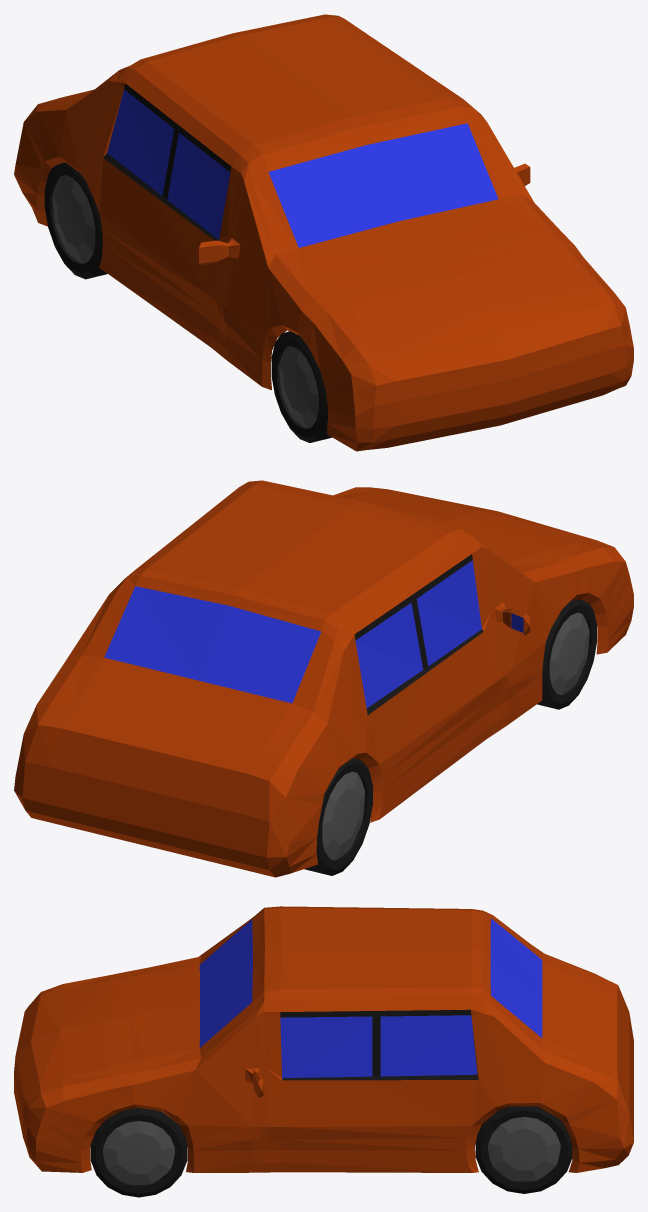
File: Car.FBX
3 renders of one model, top to bottom at view 1: azimuth 30°, elevation 25°; view 2: azimuth 150°, elevation 25°; view 3: azimuth 270°, elevation 25°, orthographic. The views are drawn at different scales.
Parts seen in each view (by area): view 1: Car, tireBackR, tireFrontR; view 2: Car, tireBackR, tireFrontR; view 3: Car, tireFrontL, tireBackL.
Part boxes in pixels (x1,y1,x2,y2): Car: [14, 14, 633, 451]; tireBackR: [44, 162, 107, 279]; tireFrontR: [271, 331, 331, 442]; Car: [14, 480, 633, 877]; tireBackR: [304, 758, 372, 875]; tireFrontR: [537, 599, 596, 709]; Car: [14, 906, 633, 1172]; tireFrontL: [90, 1108, 187, 1197]; tireBackL: [475, 1106, 572, 1193].
Bounding box in the file's own units: 155 × 102 × 292.
